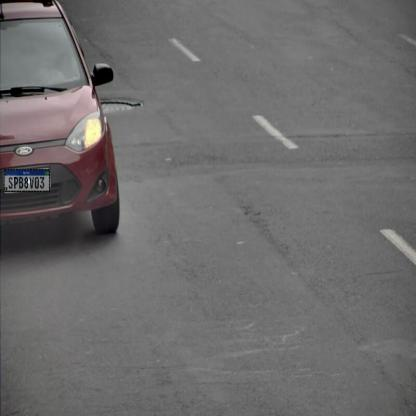PlacaM: (4, 169, 50, 192)
